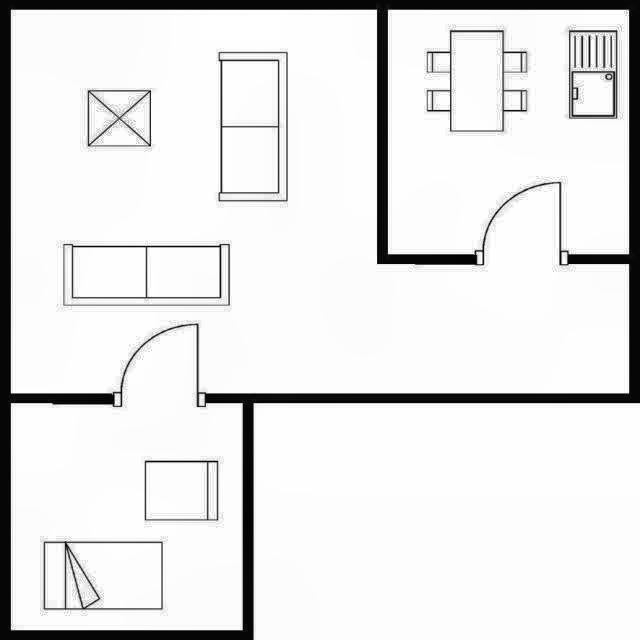room: (10, 9, 629, 394), (387, 9, 629, 255), (11, 403, 243, 630)
